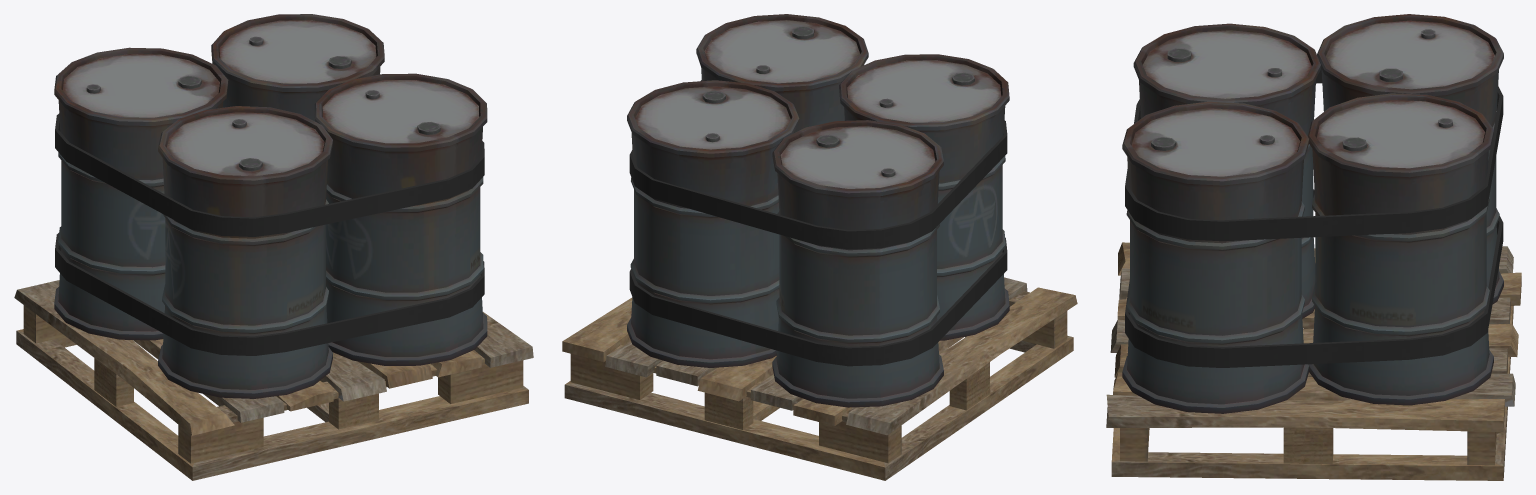
The model's file is Forest_PalletLoaded01.fbx.
3 renders of one model, left to right at view 1: azimuth 30°, elevation 25°; view 2: azimuth 150°, elevation 25°; view 3: azimuth 270°, elevation 25°, orthographic. The views are drawn at different scales.
Visible parts, largest first — view 1: ItemBox_Pallet_Loaded_01; view 2: ItemBox_Pallet_Loaded_01; view 3: ItemBox_Pallet_Loaded_01.
Part boxes in pixels (<box>): ItemBox_Pallet_Loaded_01: <box>14,14,533,480</box>; ItemBox_Pallet_Loaded_01: <box>562,14,1077,480</box>; ItemBox_Pallet_Loaded_01: <box>1106,14,1521,480</box>.
Bounding box in the file's own units: 147 × 114 × 145.
1 material, 1 textured.
